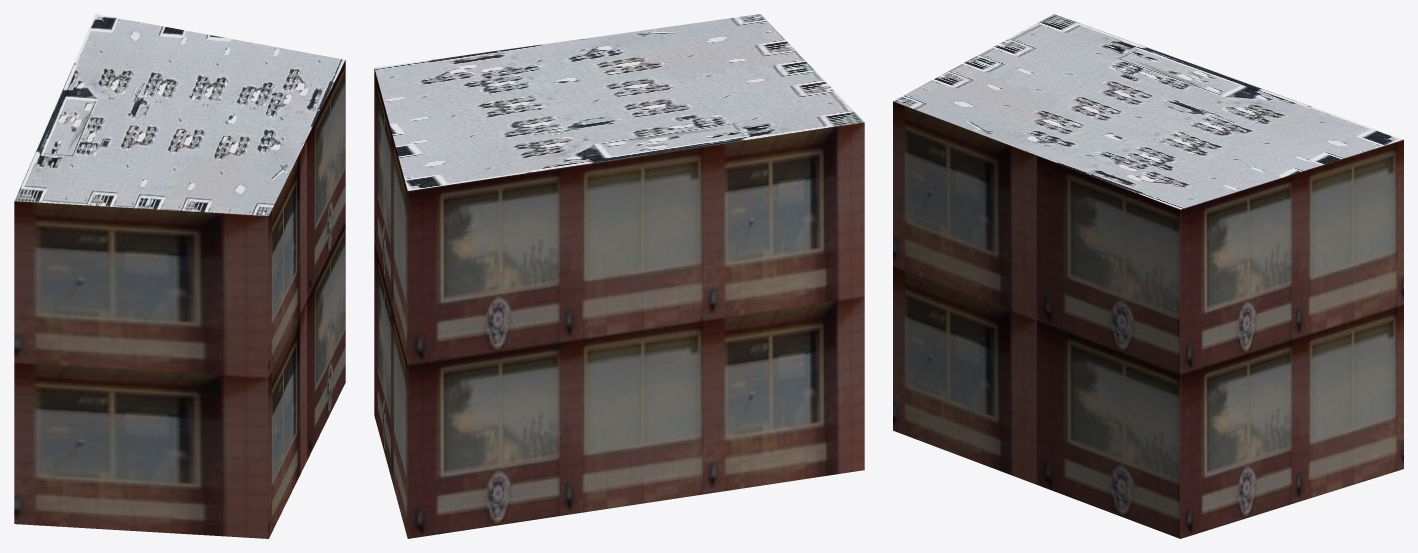
File: ResTex__1742.fbx
3 views of the same model, side by side, from view 1: azimuth 30°, elevation 25°; view 2: azimuth 150°, elevation 25°; view 3: azimuth 270°, elevation 25° (orthographic). The views are drawn at different scales.
Parts seen in each view (by area): view 1: CityEngineMaterial_13_m, CityEngineMaterial_4_m; view 2: CityEngineMaterial_13_m, CityEngineMaterial_4_m; view 3: CityEngineMaterial_13_m, CityEngineMaterial_4_m.
Boxes of the visible parts, x1,y1,x2,y2 form: CityEngineMaterial_13_m: (14, 60, 345, 538); CityEngineMaterial_4_m: (14, 14, 345, 215); CityEngineMaterial_13_m: (374, 68, 864, 538); CityEngineMaterial_4_m: (374, 14, 863, 190); CityEngineMaterial_13_m: (893, 101, 1403, 538); CityEngineMaterial_4_m: (893, 14, 1403, 209).
Bounding box in the file's own units: 7.64 × 6 × 8.43.
Materials: 2 (2 with a texture image).
